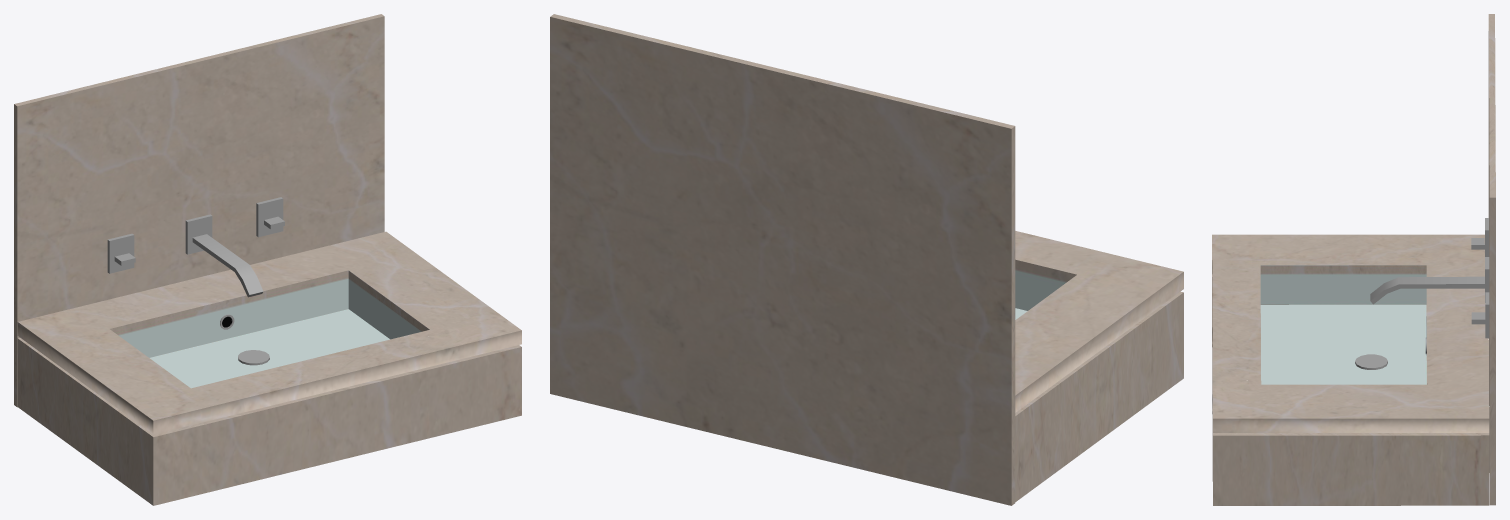
The model's file is Sink.fbx.
3 views of the same model, side by side, from view 1: azimuth 30°, elevation 25°; view 2: azimuth 150°, elevation 25°; view 3: azimuth 270°, elevation 25° (orthographic). The views are drawn at different scales.
Visible parts, largest first — view 1: Circle.001; view 2: Circle.001; view 3: Circle.001.
Boxes of the visible parts, bbox=[...] form: Circle.001: bbox=[14, 14, 521, 505]; Circle.001: bbox=[550, 14, 1183, 505]; Circle.001: bbox=[1212, 14, 1495, 505].
Size of the model in its own units: 30.7 by 23.92 by 19.96.
